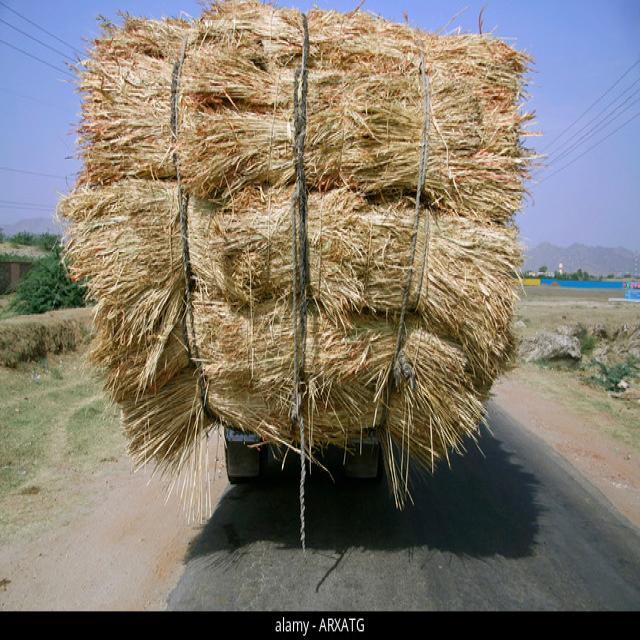goods: (57, 0, 534, 507)
